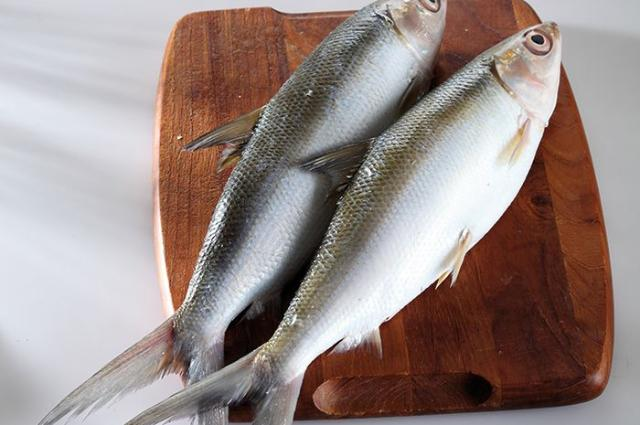Mulut: (520, 5, 578, 73)
Sirip Anal: (322, 306, 398, 376)
Sirip Dada: (474, 102, 538, 182)
Sirip Ekor: (23, 294, 243, 424), (91, 335, 316, 425)
Sirip Perut: (418, 217, 486, 300)
Sirip Punggung: (164, 95, 282, 189), (288, 131, 392, 219)
